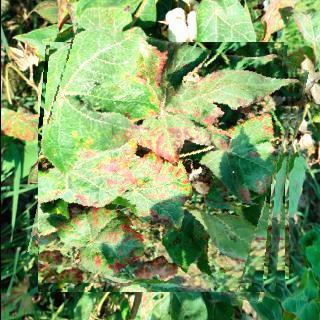blight: (37, 32, 297, 292)
